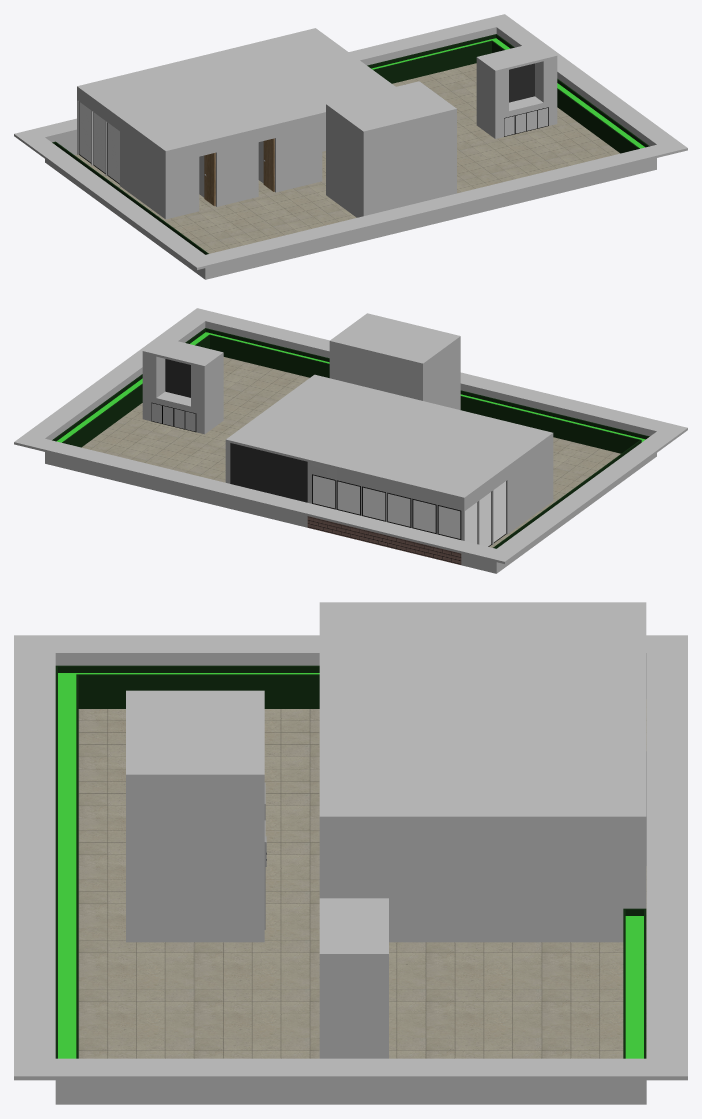
File: MSH_Amenidades_Piso_20.FBX
3 renders of one model, top to bottom at view 1: azimuth 30°, elevation 25°; view 2: azimuth 150°, elevation 25°; view 3: azimuth 270°, elevation 25°, orthographic. The views are drawn at different scales.
Parts seen in each view (by area): view 1: MSH_Amenidades_Piso_20; view 2: MSH_Amenidades_Piso_20; view 3: MSH_Amenidades_Piso_20.
Boxes of the visible parts, bbox=[...] form: MSH_Amenidades_Piso_20: bbox=[14, 14, 687, 279]; MSH_Amenidades_Piso_20: bbox=[14, 308, 687, 573]; MSH_Amenidades_Piso_20: bbox=[14, 602, 687, 1104].
Size of the model in its own units: 2256 by 410 by 1458.
